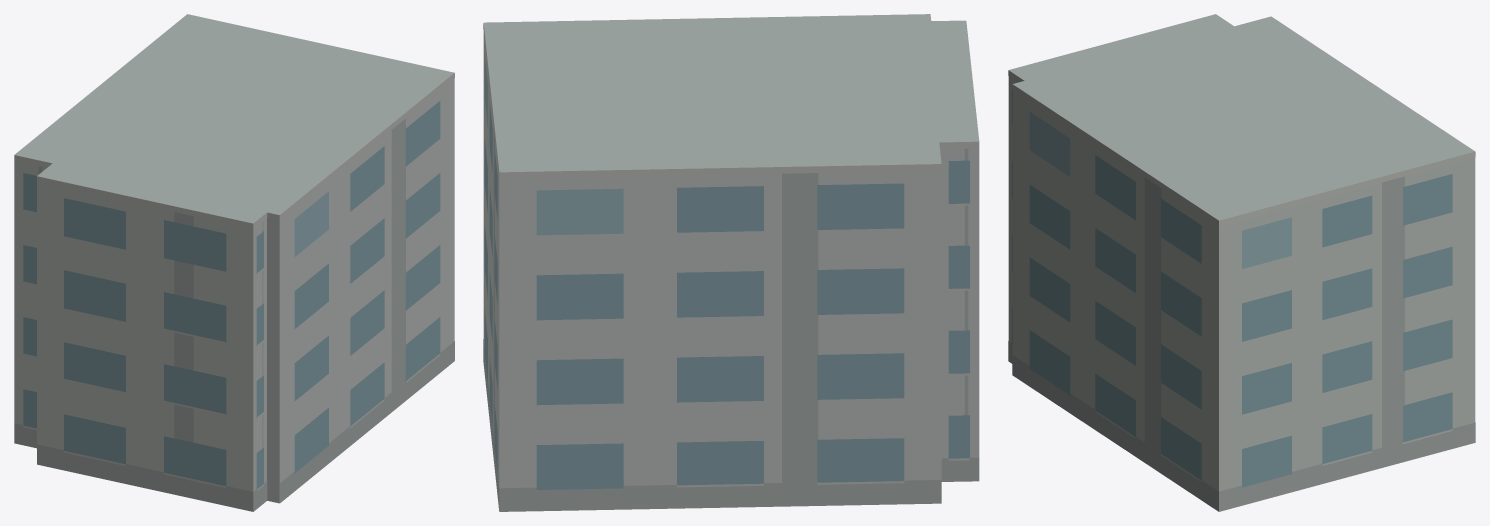
File: residential-30958d33-c8ce-459c-82a4-c69b121dffc8.glb
The picture shows the model from 3 angles, left to right: view 1: azimuth 30°, elevation 25°; view 2: azimuth 150°, elevation 25°; view 3: azimuth 270°, elevation 25°; orthographic projection. The views are drawn at different scales.
Parts seen in each view (by area): view 1: residential-30958d33-c8ce-459c-82a4-c69b121dffc8.tmp; view 2: residential-30958d33-c8ce-459c-82a4-c69b121dffc8.tmp; view 3: residential-30958d33-c8ce-459c-82a4-c69b121dffc8.tmp.
Part boxes in pixels (left/top/right/bottom): residential-30958d33-c8ce-459c-82a4-c69b121dffc8.tmp: left=14, top=14, right=454, bottom=511; residential-30958d33-c8ce-459c-82a4-c69b121dffc8.tmp: left=483, top=14, right=979, bottom=511; residential-30958d33-c8ce-459c-82a4-c69b121dffc8.tmp: left=1008, top=14, right=1475, bottom=511.
Size of the model in its own units: 18.88 by 12.4 by 18.03.
